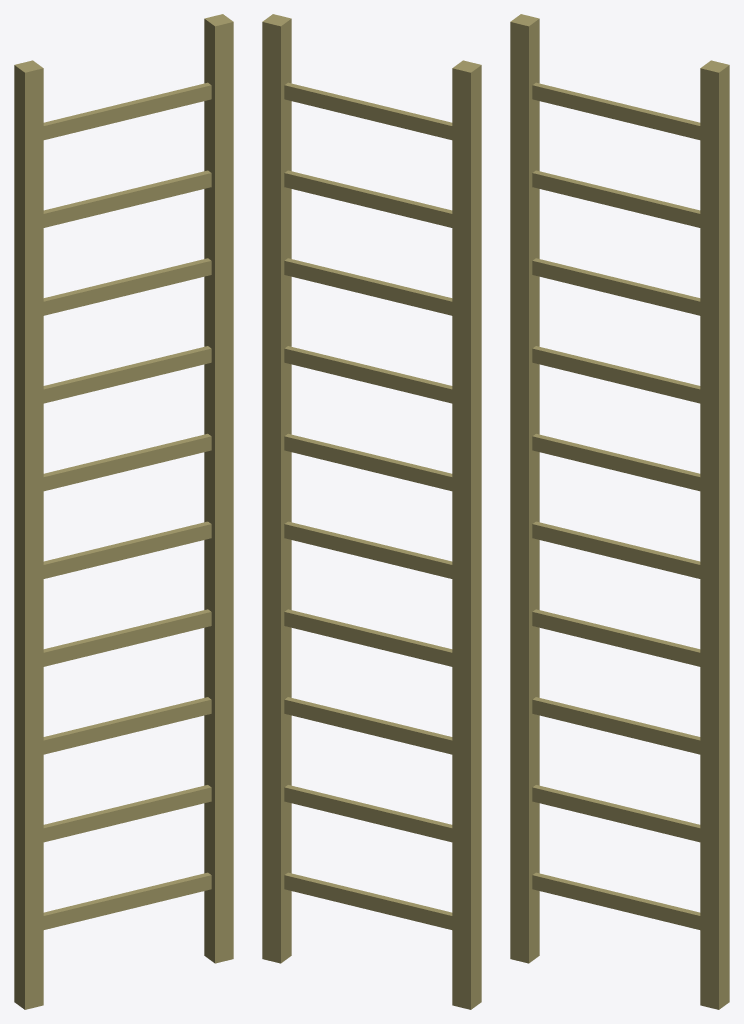
File: stairs_simple.fbx
The picture shows the model from 3 angles, left to right: view 1: azimuth 30°, elevation 25°; view 2: azimuth 150°, elevation 25°; view 3: azimuth 330°, elevation 25°; orthographic projection.
Visible parts, largest first — view 1: ladder, ladder stairs; view 2: ladder, ladder stairs; view 3: ladder, ladder stairs.
Boxes of the visible parts, x1,y1,x2,y2 form: ladder: [14, 14, 233, 1009]; ladder stairs: [43, 82, 211, 929]; ladder: [262, 14, 481, 1009]; ladder stairs: [284, 82, 452, 929]; ladder: [510, 14, 729, 1009]; ladder stairs: [532, 82, 700, 929].
Size of the model in its own units: 103 by 443 by 9.22.
